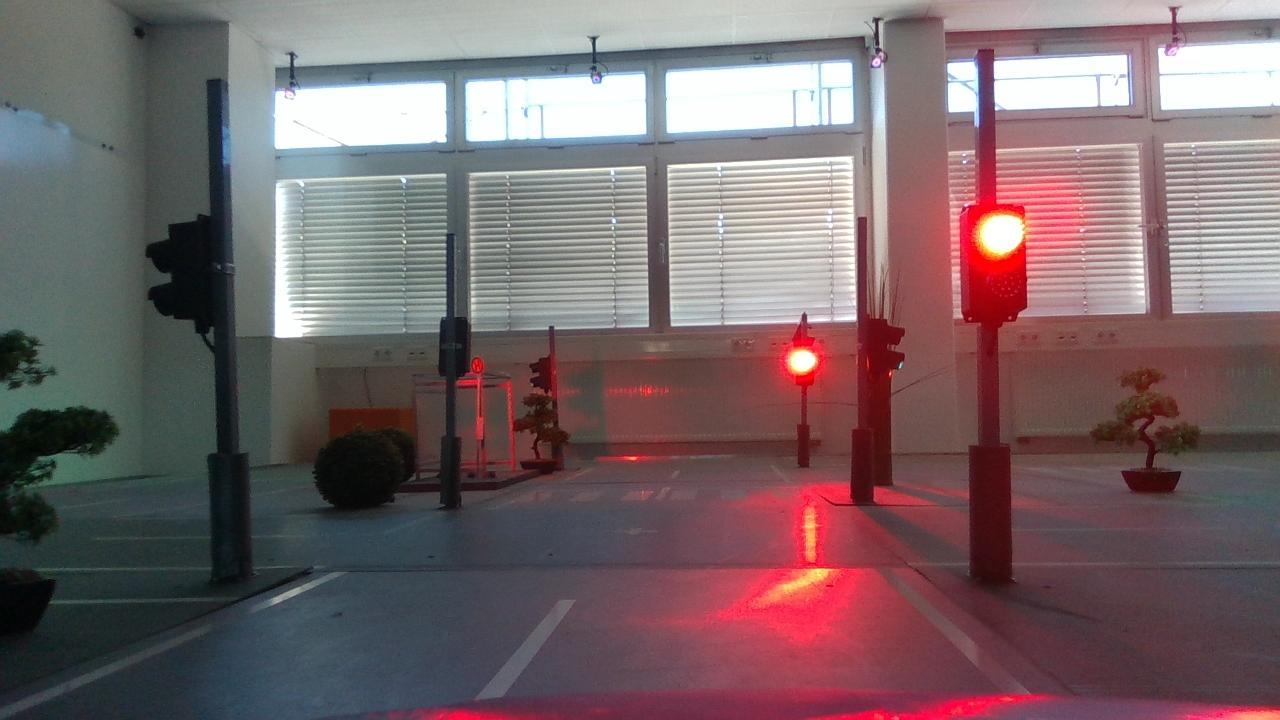traffic_light_red: (937, 194, 1046, 333)
